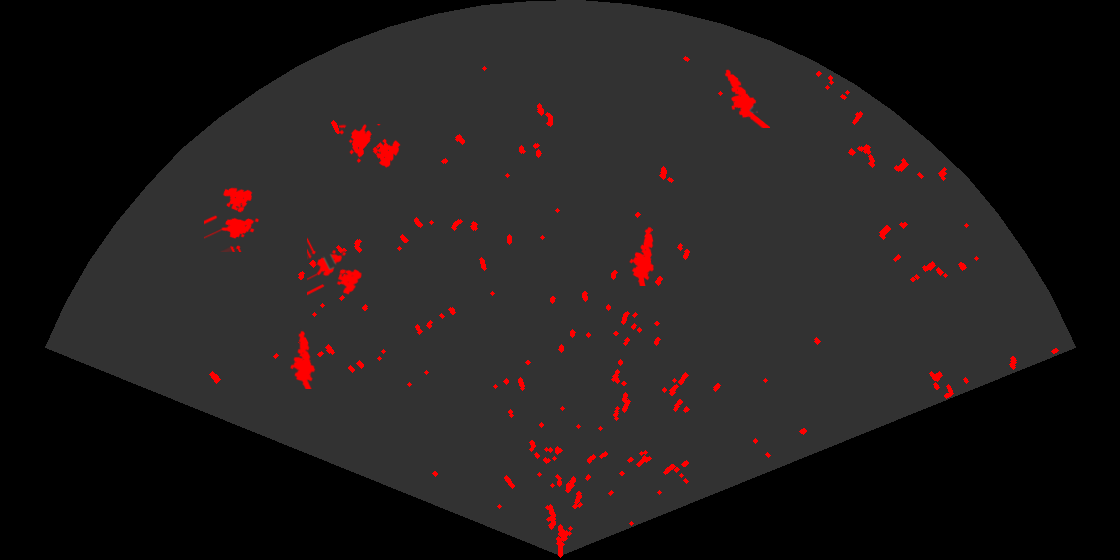cage: (204, 186, 260, 252), (307, 236, 364, 297), (339, 124, 402, 169)
frogman: (723, 68, 770, 128), (628, 225, 656, 286), (289, 328, 317, 389)
